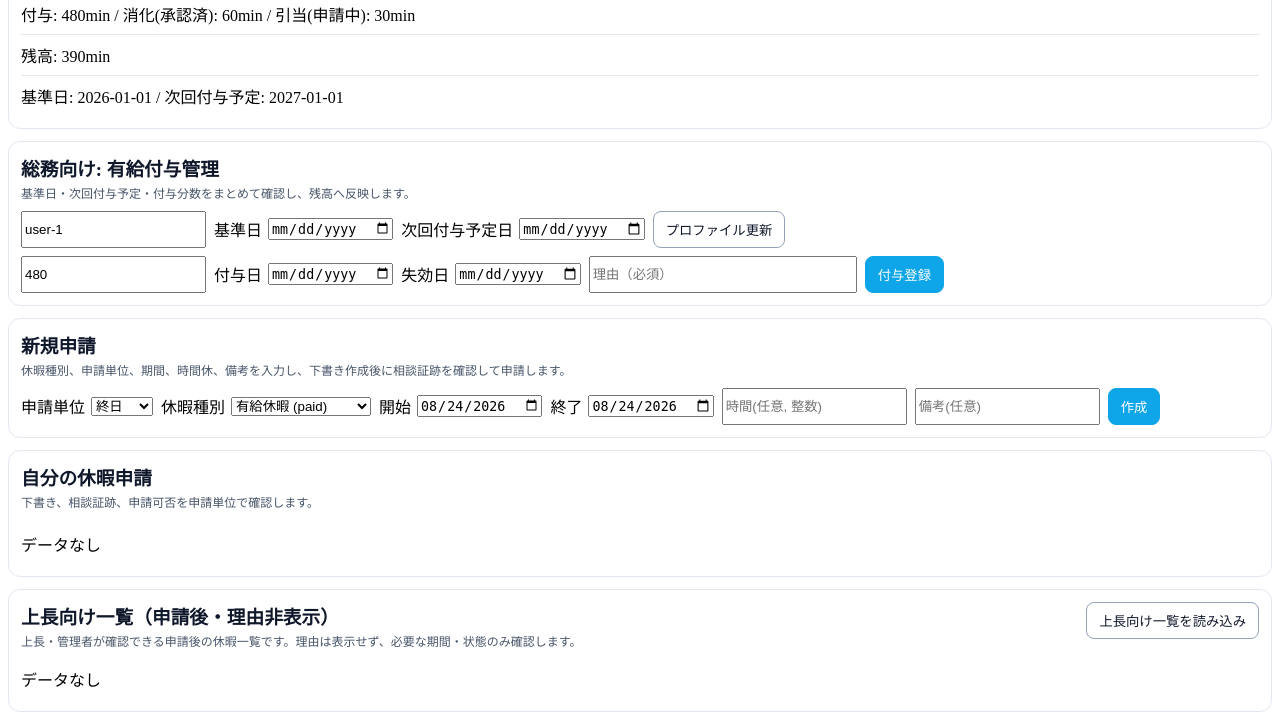
Scenario: LeaveRequests › validates hourly leave range
(page scrolled)
Expected: the heading "新規申請" is shown, 21,336 -> 96,357
Expected: the heading "自分の休暇申請" is shown, 21,468 -> 152,489
Select "時間休 (hourly-only)" in the dropdown labelled "休暇種別" at x=301, y=406, box 231,397 -> 371,416
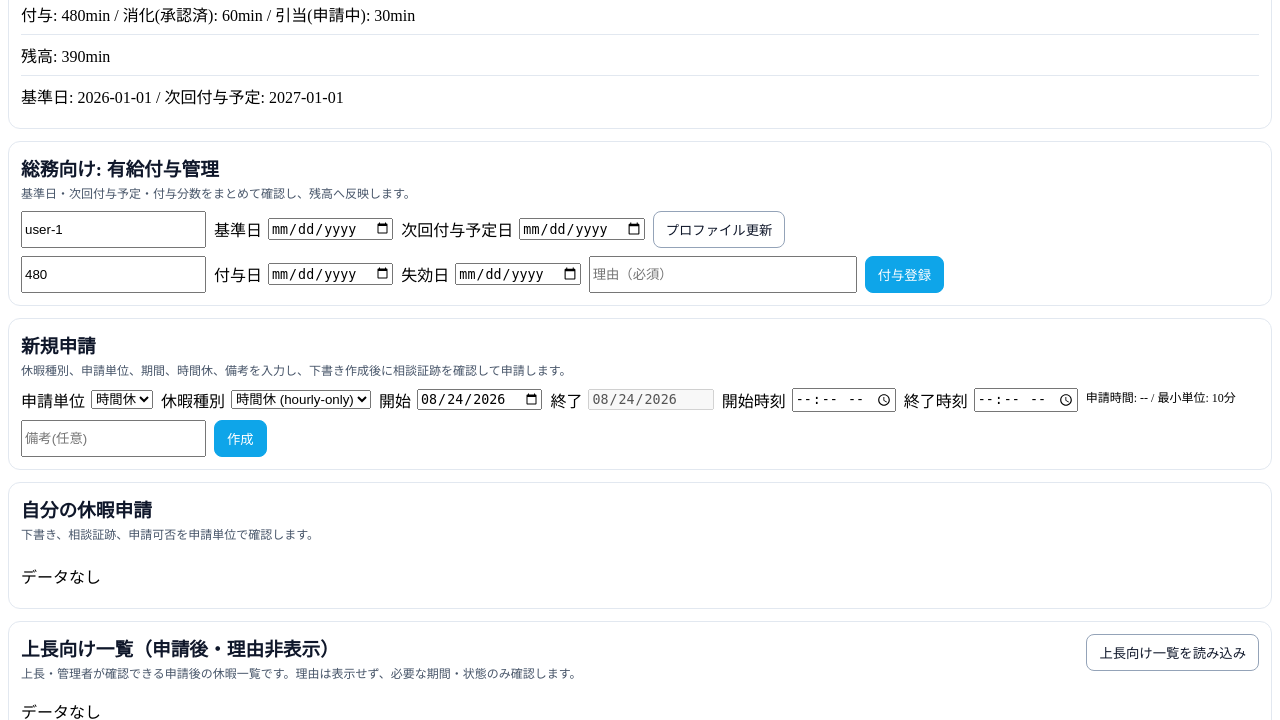
Type "12:00" into the time field named "時間休開始時刻" at x=844, y=400, box 792,388 -> 896,412
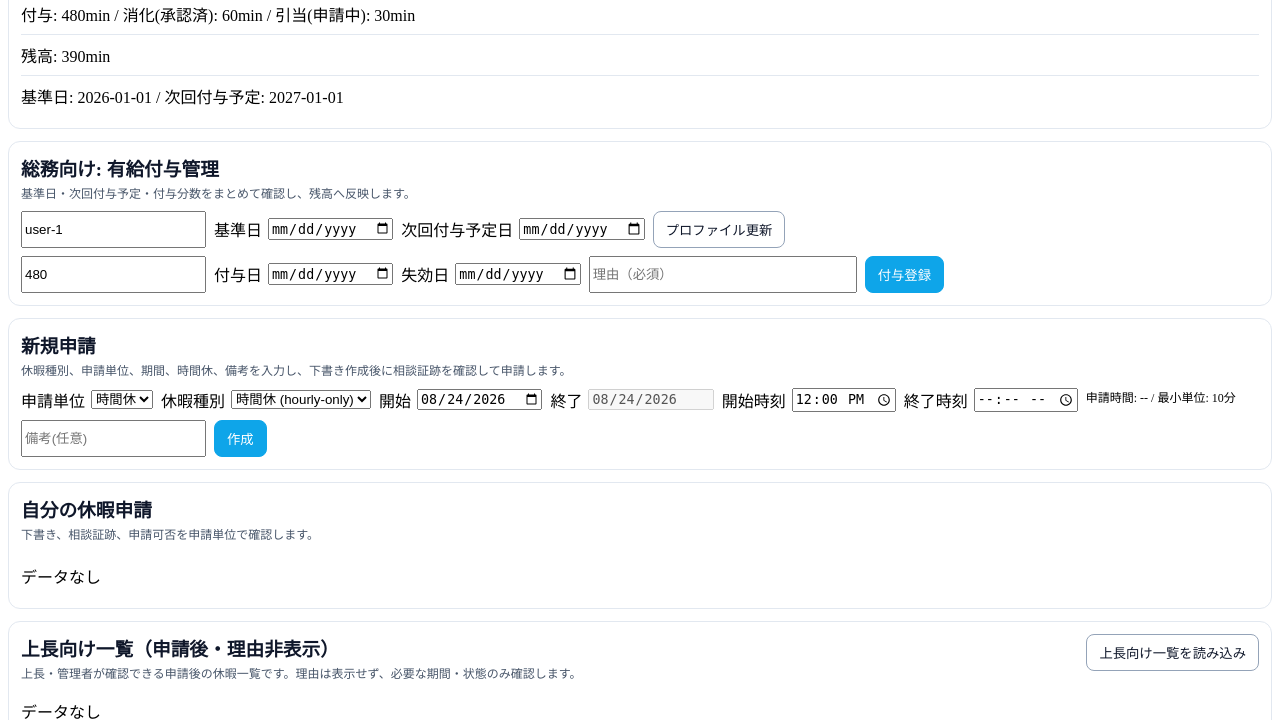
Type "11:00" into the time field named "時間休終了時刻" at x=1026, y=400, box 974,388 -> 1078,412
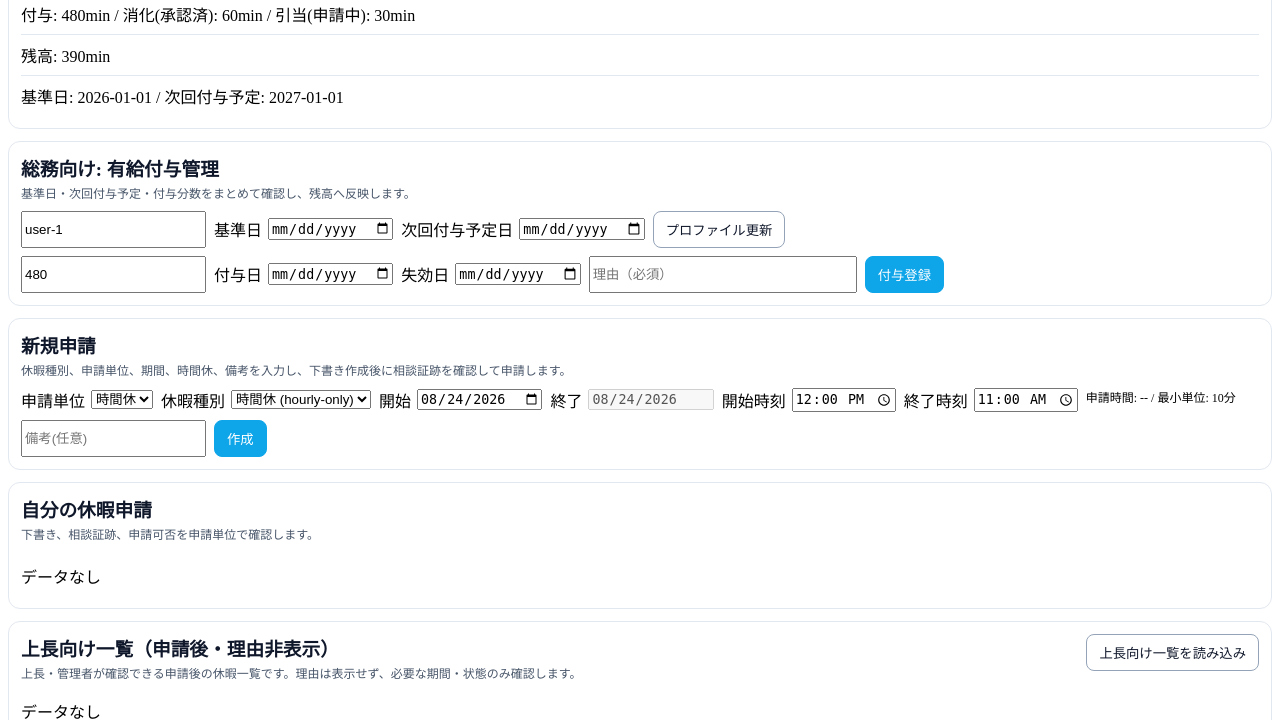
Click the button "作成" at x=240, y=438, box 214,420 -> 267,457
(page scrolled)
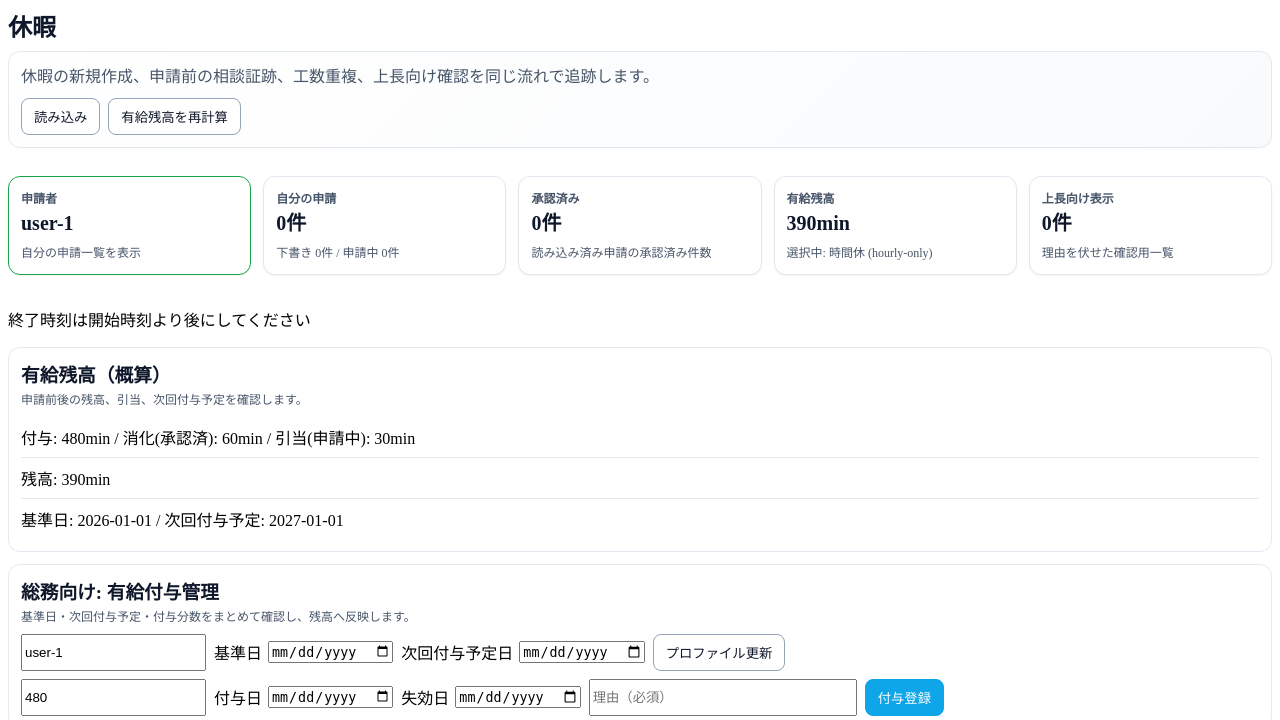
Expected: the text "終了時刻は開始時刻より後にしてください" is shown, 8,312 -> 311,329
